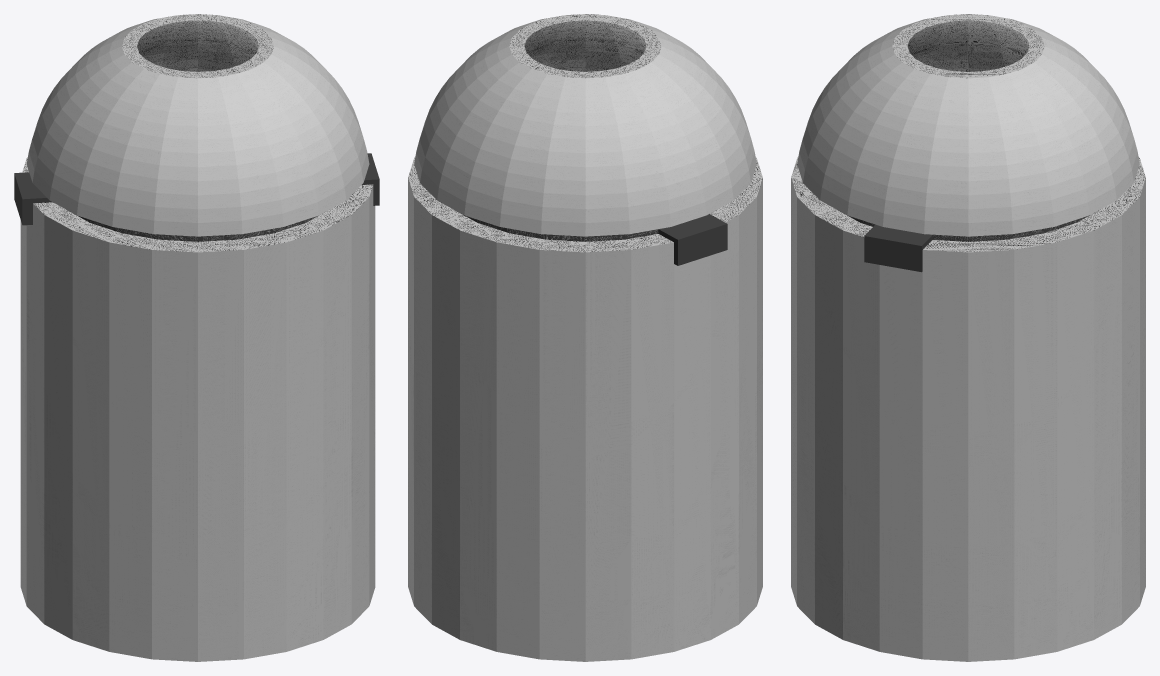
3 renders of one model, left to right at view 1: azimuth 30°, elevation 25°; view 2: azimuth 150°, elevation 25°; view 3: azimuth 270°, elevation 25°, orthographic.
Parts seen in each view (by area): view 1: mesh3.001_mesh3-geometry, mesh1.001_mesh1-geometry; view 2: mesh3.001_mesh3-geometry, mesh1.001_mesh1-geometry; view 3: mesh3.001_mesh3-geometry, mesh1.001_mesh1-geometry.
Boxes of the visible parts, box(x1,y1,x2,y2) form: mesh3.001_mesh3-geometry: box(20, 14, 375, 661); mesh1.001_mesh1-geometry: box(14, 153, 379, 225); mesh3.001_mesh3-geometry: box(408, 14, 762, 661); mesh1.001_mesh1-geometry: box(658, 214, 727, 265); mesh3.001_mesh3-geometry: box(791, 14, 1145, 661); mesh1.001_mesh1-geometry: box(864, 224, 932, 272).
Size of the model in its own units: 0.4611 by 0.7627 by 0.4535.
Materials: 6 (2 with a texture image).
